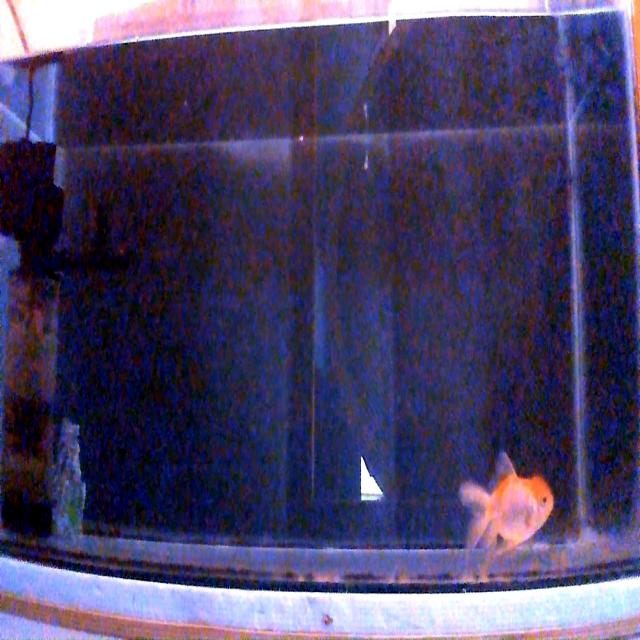fish: (458, 449, 554, 558)
